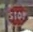stop: (6, 4, 29, 26)
